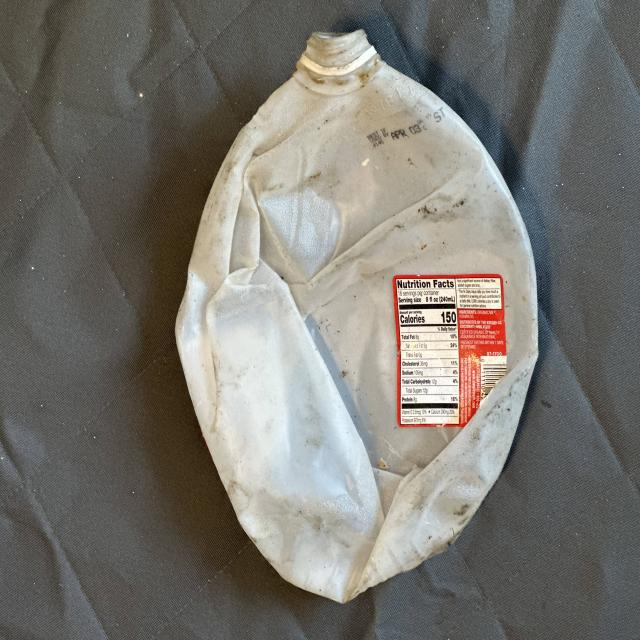milk-jug: (172, 26, 541, 606)
